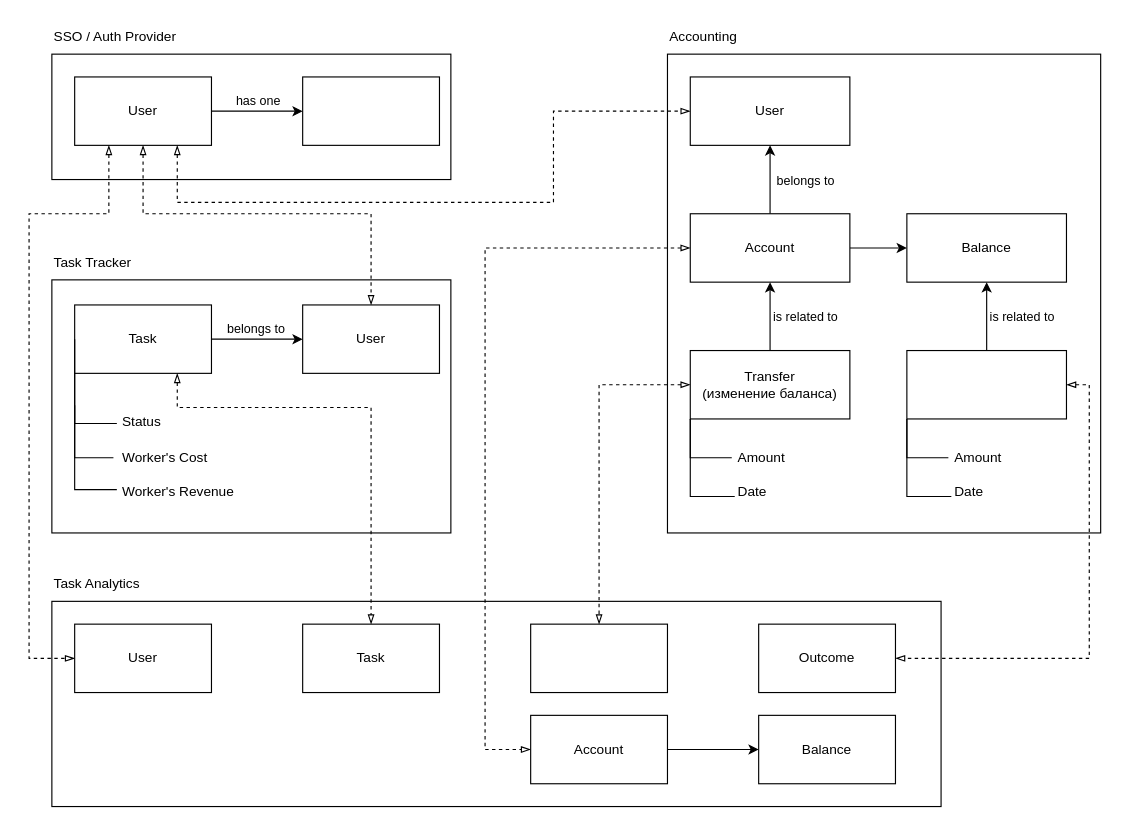
Image size: 1121x827. Some labels were removed from this diagram. Here are the shapes that lost their labels. From the top down, the centre of each, then its label:
(x=370, y=110): Role
(x=986, y=384): Outcome (выплаты сотруднику)
(x=598, y=658): Transfer
